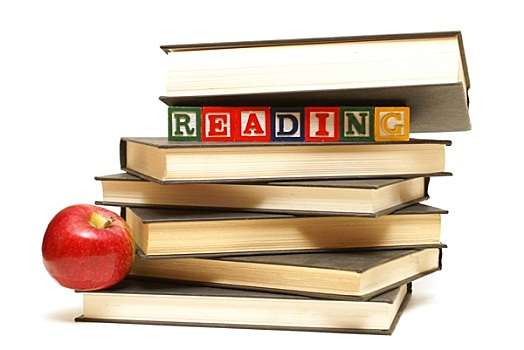book: (155, 30, 475, 132), (105, 130, 458, 186), (121, 242, 448, 297), (106, 206, 449, 257), (64, 287, 421, 336), (90, 171, 439, 220)
